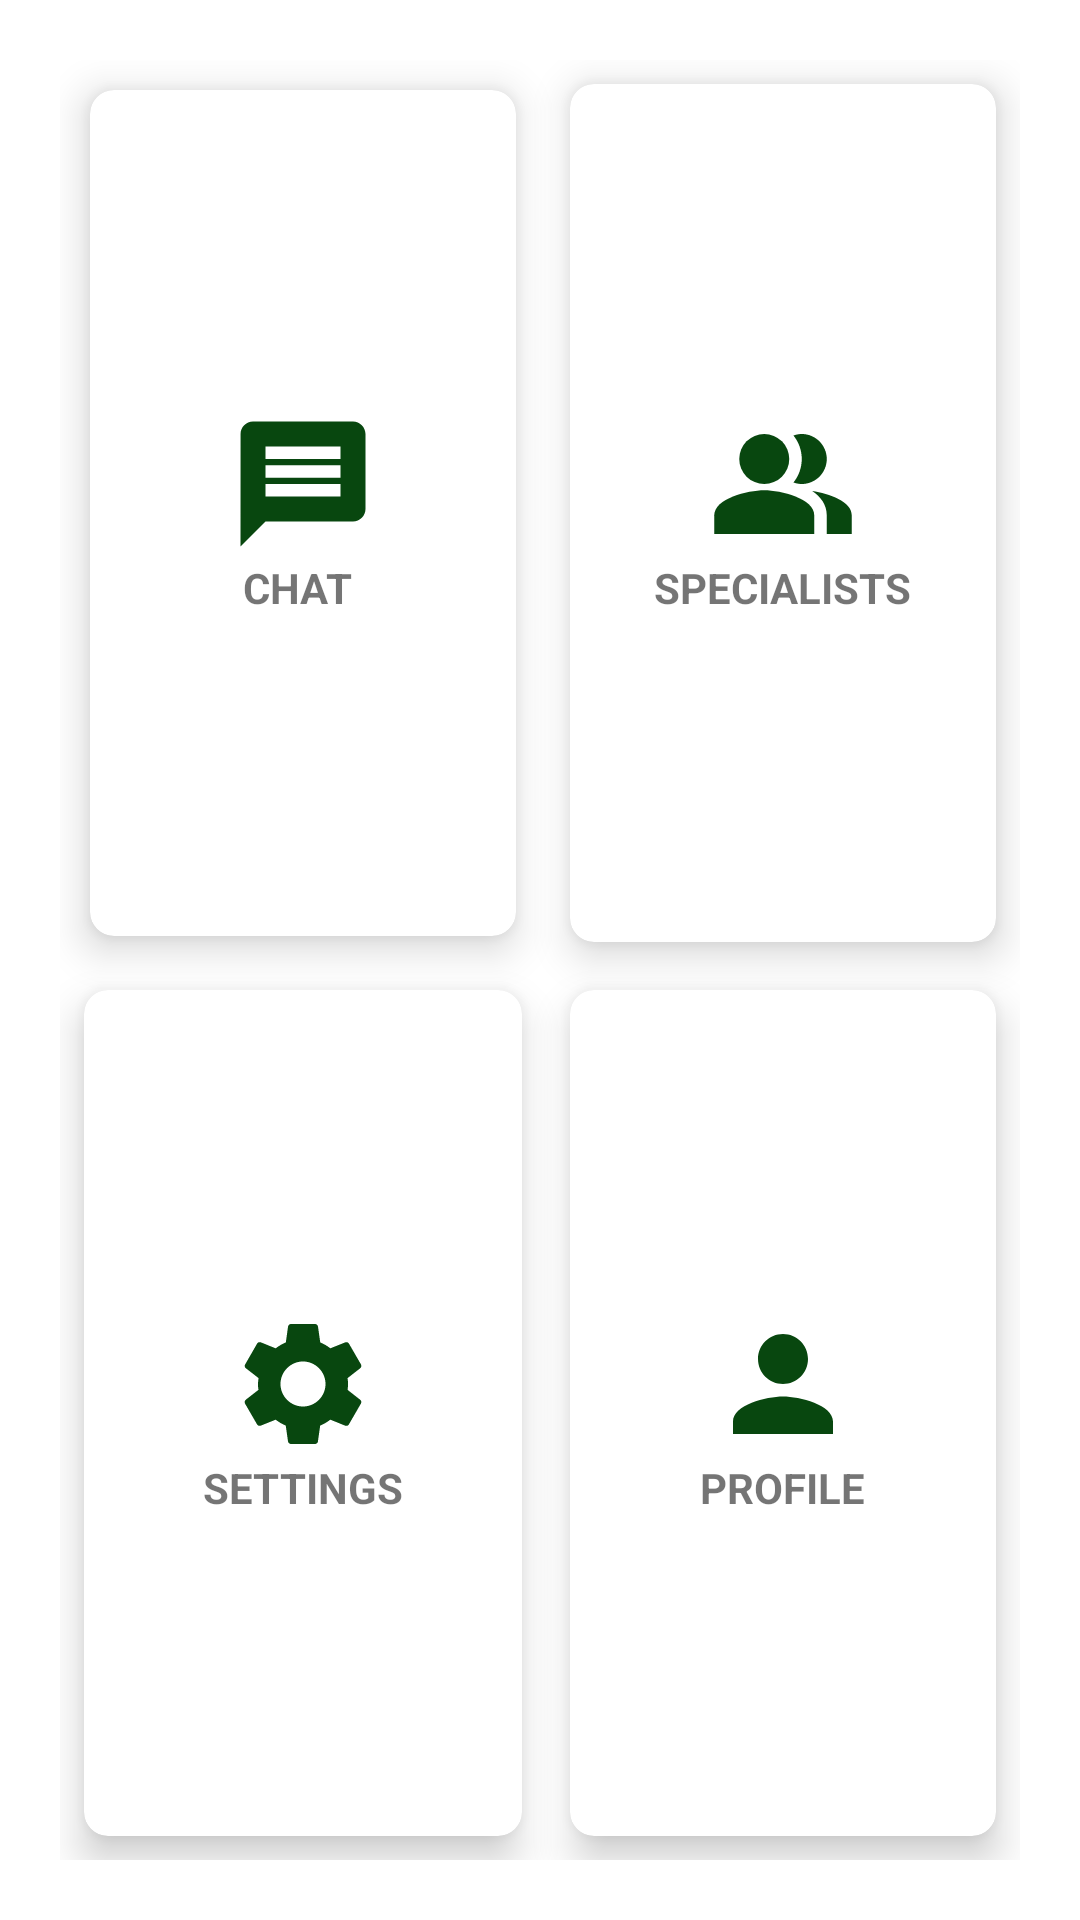

Icons on this 1080w x 1920h Android screen, each with its box as Rect(x1, y1, x2, y2):
therapists: Rect(714, 434, 852, 534)
